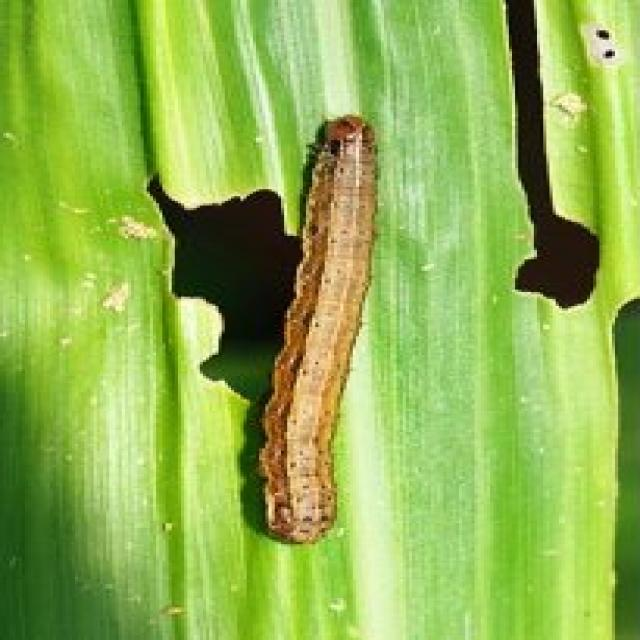Fall-armyworm: (244, 114, 382, 549)
